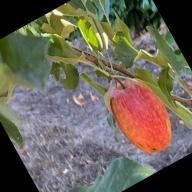Apples: (101, 70, 182, 162)
